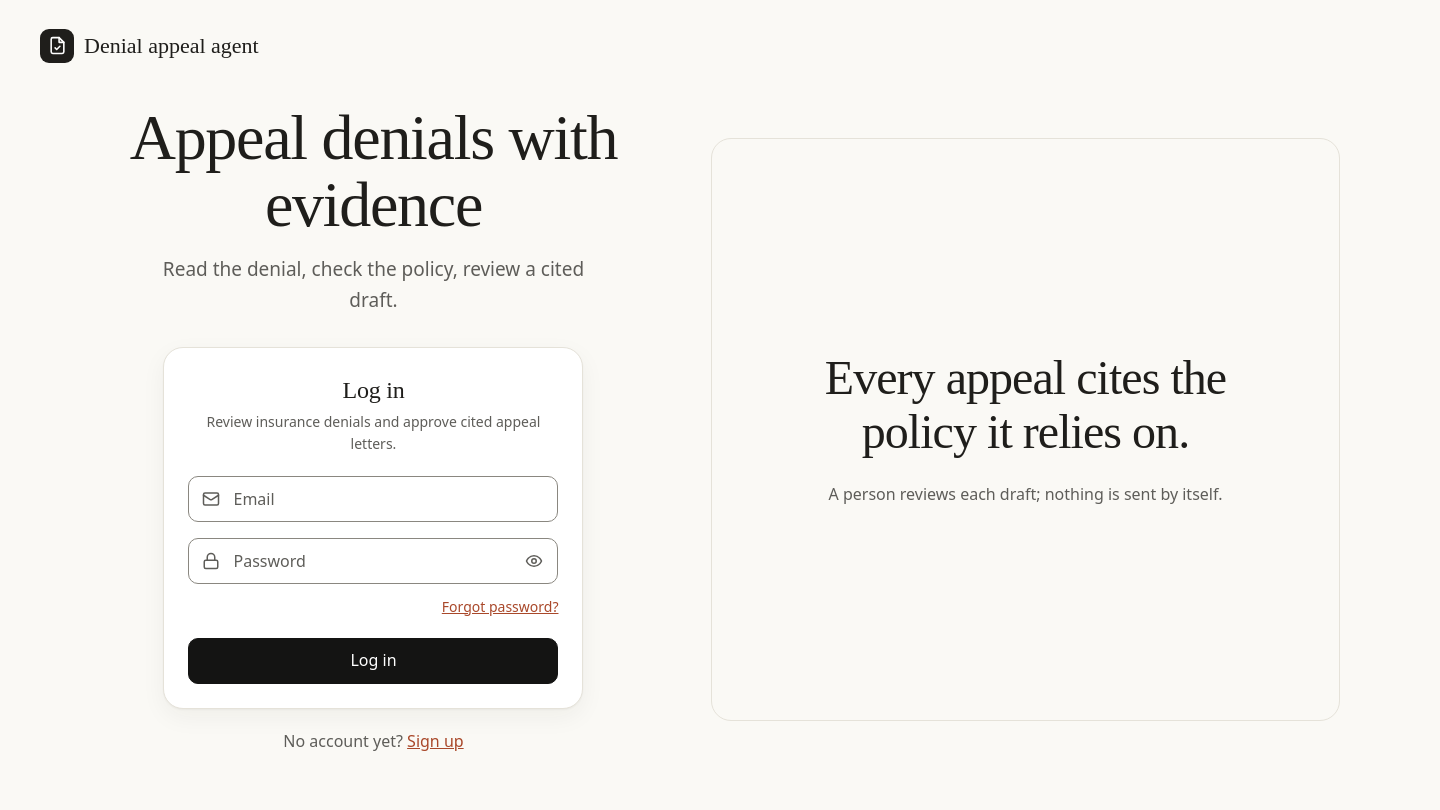
Test case: LoginScreen › goes to the code screen when the email is not confirmed yet
The image size is (1440, 810).
Type "ada@example.test" into the field labelled "Email".
click(374, 499); type("ada@example.test")  # box [188, 476, 558, 522]
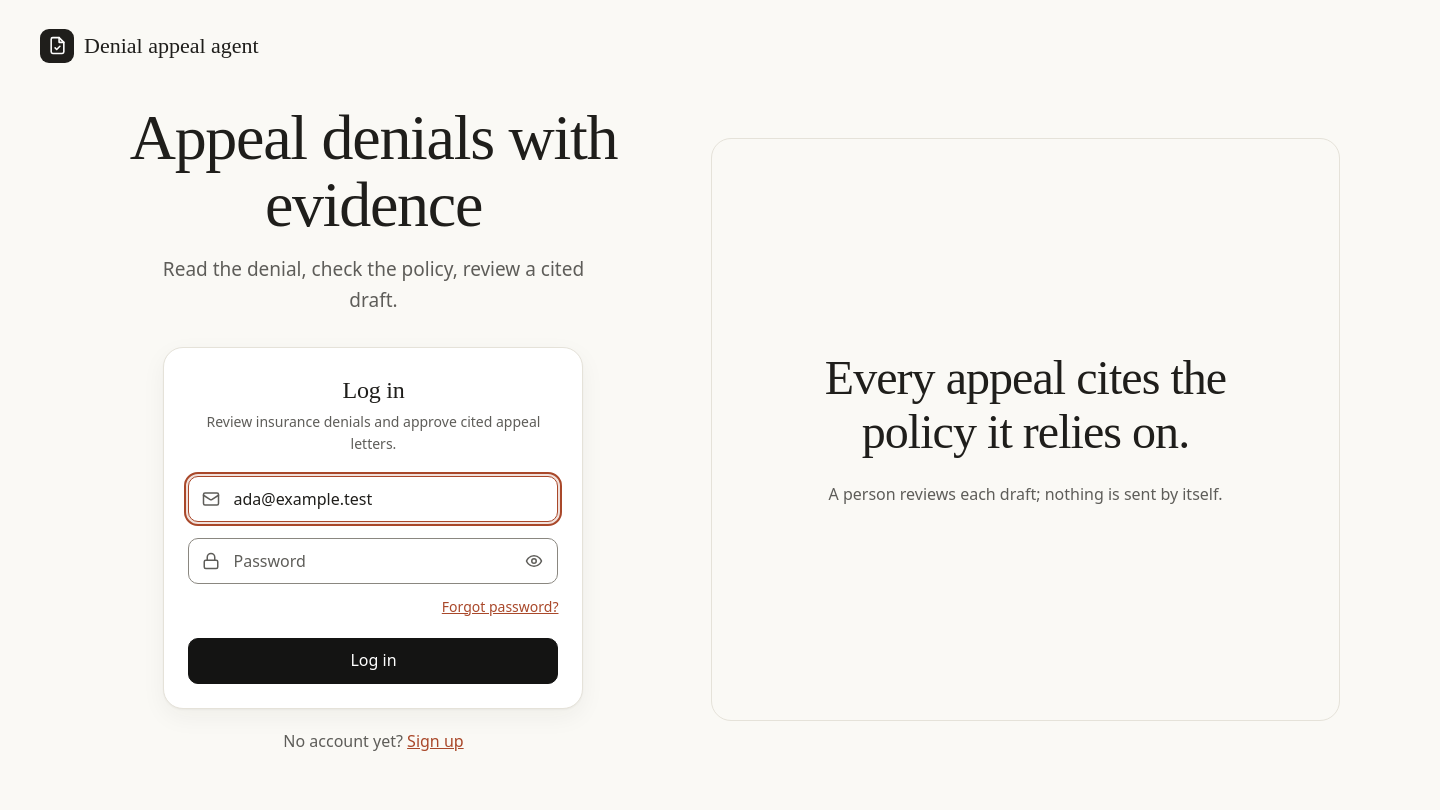
Type "a long made-up password" into the password field labelled "Password".
click(374, 561); type("a long made-up password")  # box [188, 538, 558, 584]
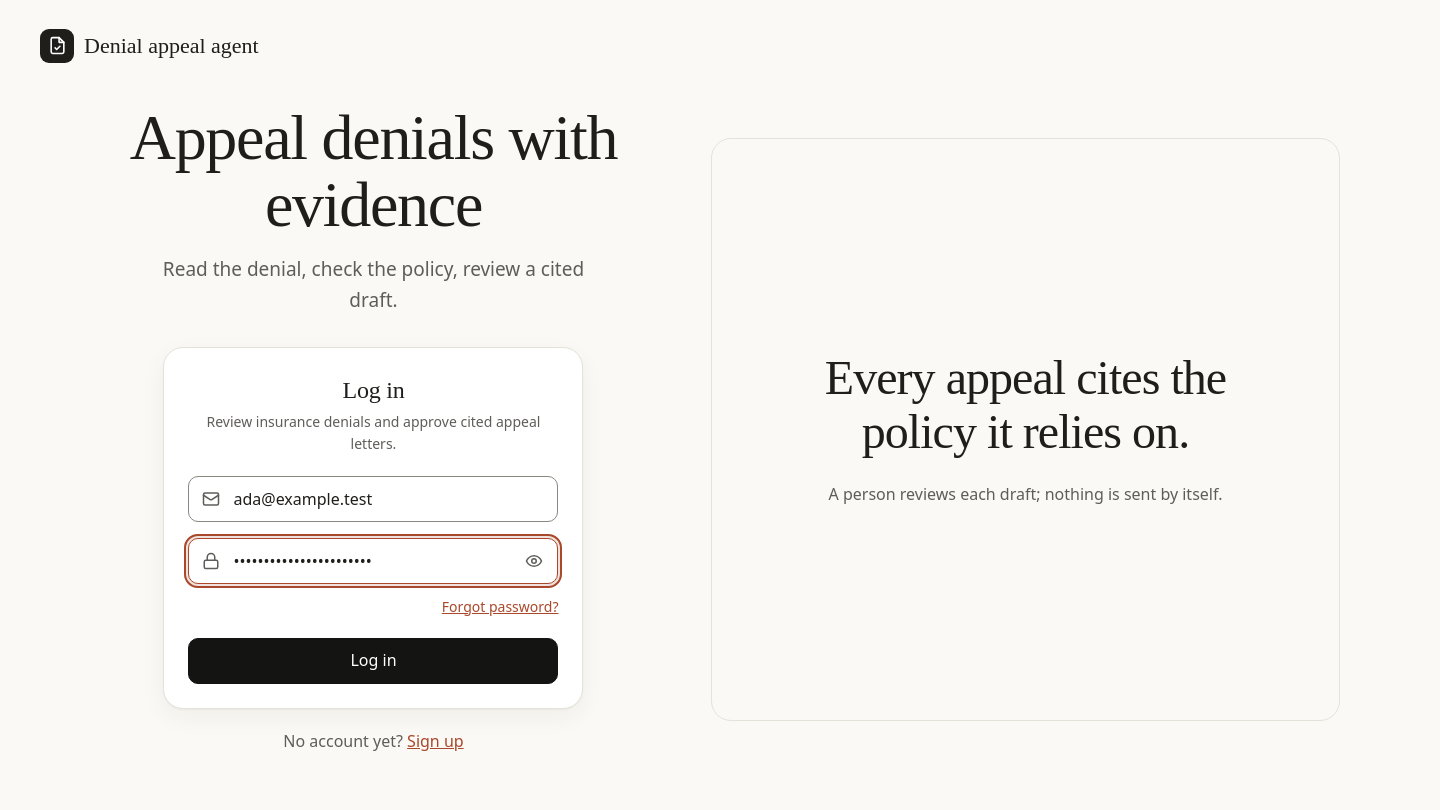
Click the button "Log in".
click(374, 661)  # box [188, 638, 558, 684]
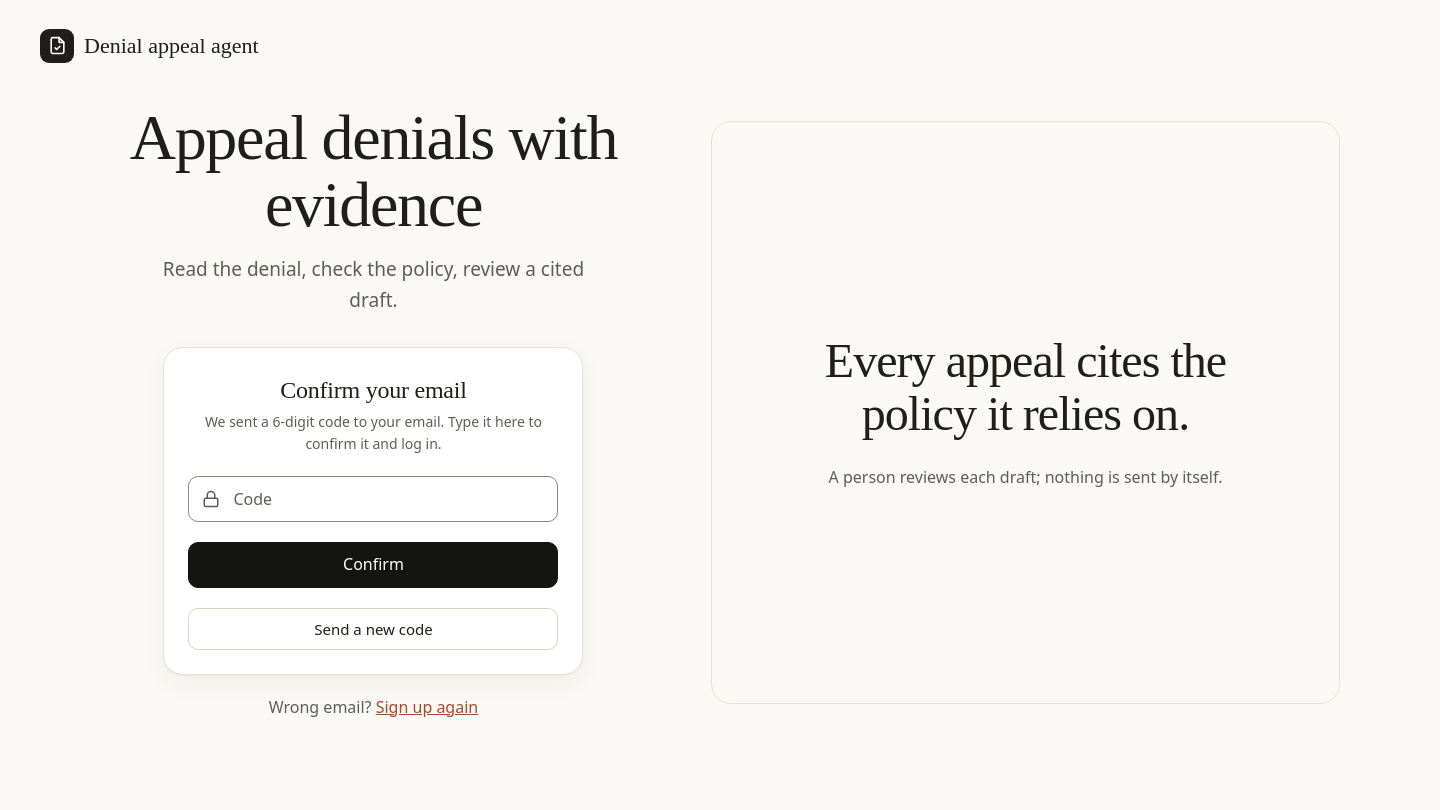
Now the heading "Confirm your email" is shown, box [280, 377, 467, 403]
